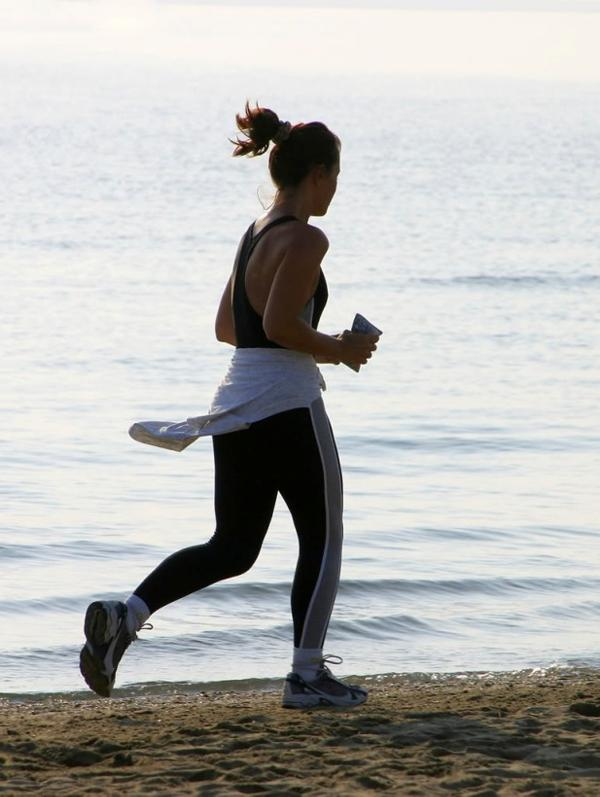person: (80, 102, 384, 714)
